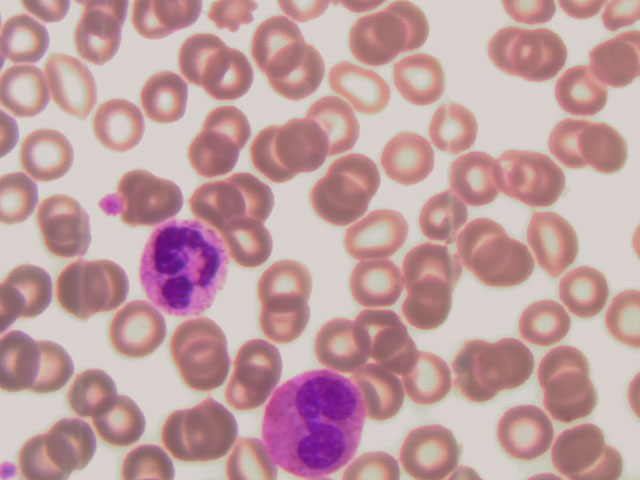Platelets: (94, 192, 127, 220), (1, 453, 23, 480)
RBC: (89, 94, 149, 153), (182, 126, 242, 185), (194, 101, 254, 160), (135, 67, 195, 126), (41, 54, 101, 113), (22, 125, 82, 184), (38, 196, 98, 255), (56, 257, 116, 316), (110, 302, 170, 361), (168, 303, 228, 362), (174, 337, 234, 396), (225, 329, 285, 388), (213, 367, 273, 426), (190, 397, 250, 456), (147, 407, 207, 466), (92, 390, 152, 449), (67, 364, 127, 423), (24, 338, 84, 397), (5, 262, 65, 321), (252, 246, 312, 305), (259, 292, 319, 351), (233, 218, 293, 277), (236, 172, 296, 231), (197, 173, 257, 232), (126, 165, 186, 224), (275, 114, 335, 173), (247, 123, 307, 182), (316, 94, 376, 153), (274, 52, 334, 111), (257, 17, 317, 76), (207, 48, 267, 107), (171, 31, 231, 90), (380, 125, 440, 184), (333, 142, 393, 201), (314, 173, 374, 232), (345, 205, 405, 264), (343, 250, 403, 309), (349, 290, 409, 349), (319, 312, 379, 371), (403, 354, 463, 413), (357, 363, 417, 422), (396, 421, 456, 480), (493, 403, 553, 462), (542, 375, 602, 434), (536, 342, 596, 401), (490, 335, 550, 394), (444, 341, 504, 400), (516, 297, 576, 356), (557, 260, 617, 319), (525, 214, 585, 273), (485, 239, 545, 298), (452, 217, 512, 276), (416, 188, 476, 247), (403, 233, 463, 292), (400, 277, 460, 336), (452, 150, 512, 209), (422, 99, 482, 158), (393, 47, 453, 106), (332, 55, 392, 114), (345, 13, 405, 72), (580, 123, 640, 182), (549, 117, 609, 176), (523, 149, 583, 208), (495, 146, 555, 205), (526, 28, 586, 87), (471, 17, 531, 76), (553, 64, 613, 123), (580, 35, 640, 94), (547, 417, 607, 476), (66, 8, 126, 67), (1, 60, 60, 119), (1, 10, 60, 69), (45, 415, 100, 470), (14, 425, 68, 480)
WBC: (264, 372, 364, 471), (136, 218, 234, 311)
